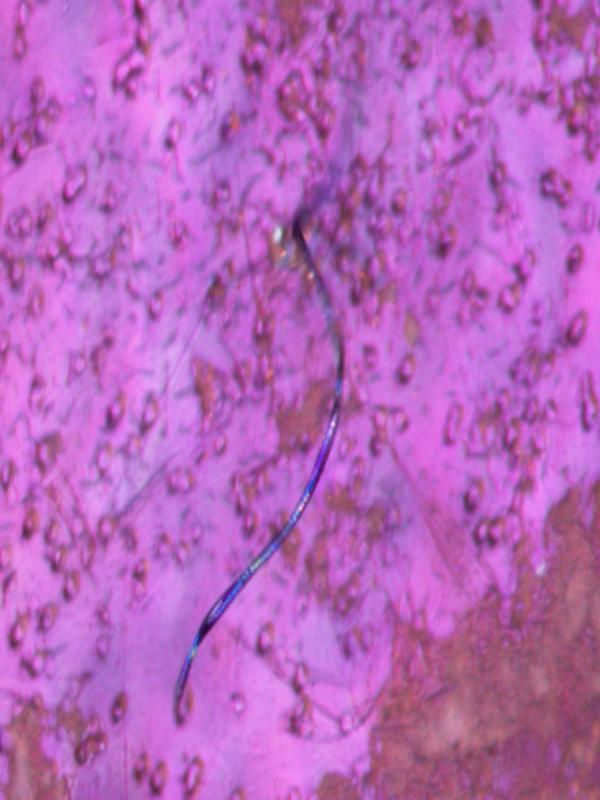microplastic: (2, 3, 599, 798), (173, 218, 347, 731)
